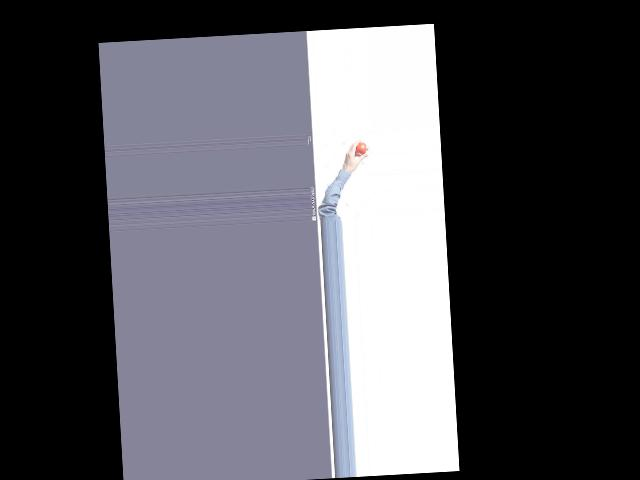tomato: (355, 141, 366, 154)
